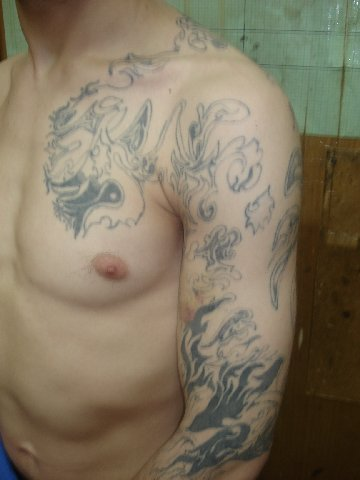tatu6_drakon: (28, 12, 343, 449)
